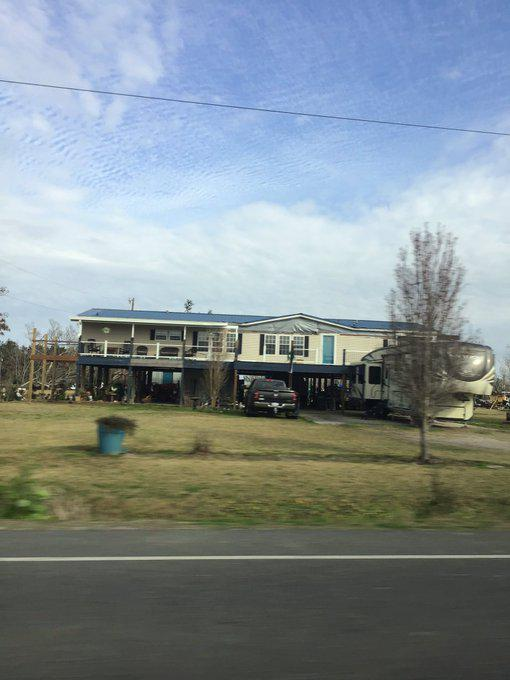minor: (17, 293, 452, 416)
